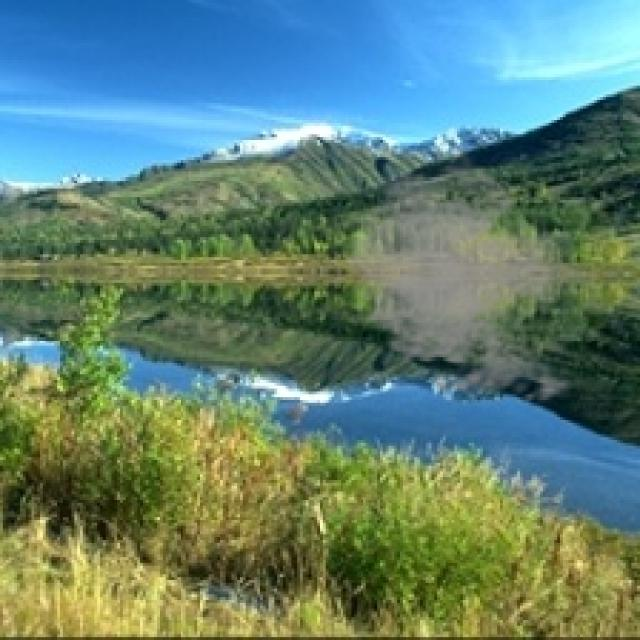smoke: (334, 146, 609, 408)
